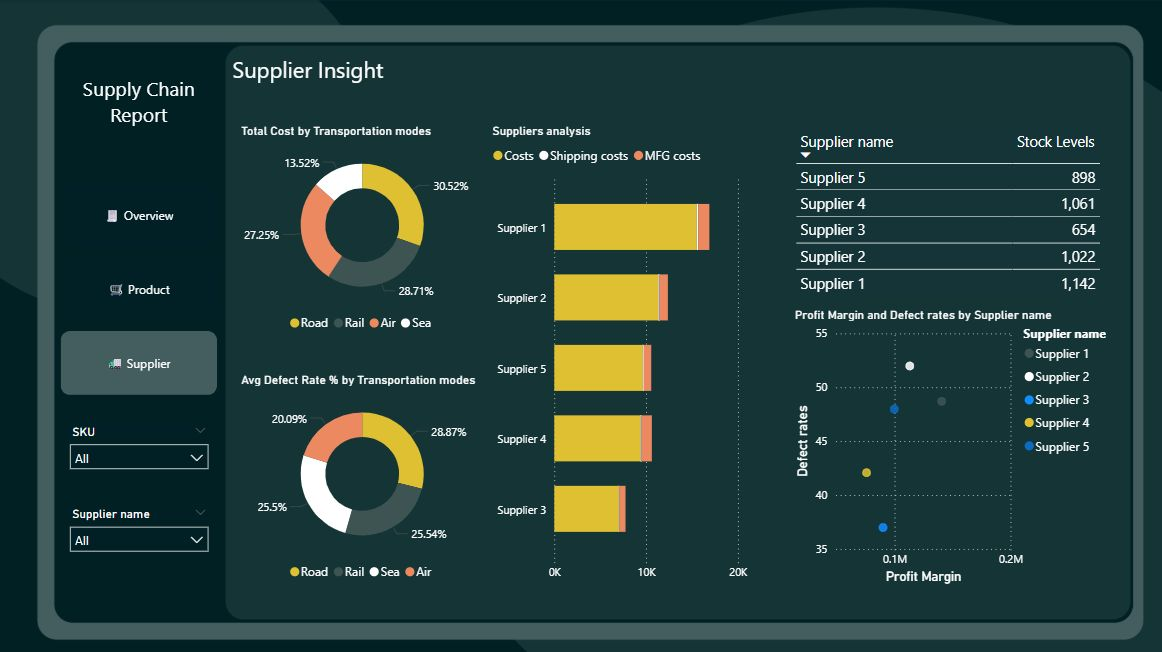

The dashboard page shown, as its layout file describes it:
{"tool":"powerbi","page":{"name":"🚛   Supplier","canvas":[1280,720],"ordinal":2},"visuals":[{"type":"donutChart","fields":{"Y":["_Measures.Total Cost"],"Category":["supply_chain_data.Transportation modes"]},"box":[262.1,137.2,275.8,237.4],"z":0},{"type":"donutChart","fields":{"Category":["supply_chain_data.Transportation modes"],"Y":["_Measures.Avg Defect Rate %"]},"box":[262.1,410.3,275.8,237.4],"z":1000},{"type":"barChart","title":"Suppliers analysis","fields":{"Category":["supply_chain_data.Supplier name"],"Y":["Sum(supply_chain_data.Costs)","Sum(supply_chain_data.Shipping costs)","Sum(supply_chain_data.MFG costs)"]},"box":[537.9,137.2,289.5,510.5],"z":2000},{"type":"tableEx","fields":{"Values":["supply_chain_data.Supplier name","_Measures.Stock Levels"]},"box":[870,137.2,367.8,201.7],"z":3000},{"type":"scatterChart","fields":{"X":["Sum(supply_chain_data.Profit Margin)"],"Y":["Sum(supply_chain_data.Defect rates)"],"Series":["supply_chain_data.Supplier name"]},"box":[870,338.9,367.8,308.7],"z":4000},{"type":"textbox","box":[252.5,56.3,204.5,61.7],"z":5000},{"type":"pageNavigator","box":[69.2,202.1,172.2,234.6],"z":6000},{"type":"slicer","fields":{"Values":["supply_chain_data.SKU"]},"box":[69.2,462.5,172.2,69.2],"z":7000},{"type":"slicer","fields":{"Values":["supply_chain_data.Supplier name"]},"box":[69.2,553.3,172.2,69.2],"z":8000},{"type":"textbox","box":[69.2,78.7,172.2,82.7],"z":9000}]}

Visuals, with their boxes in screenshot pixels (x1, y1, x2, y2), scaled from the page's 1280x720 canvas onto the 1162x652 screenshot:
donutChart - _Measures.Total Cost x supply_chain_data.Transportation modes: (x1=238, y1=124, x2=488, y2=339)
donutChart - supply_chain_data.Transportation modes x _Measures.Avg Defect Rate %: (x1=238, y1=372, x2=488, y2=587)
"Suppliers analysis" barChart: (x1=488, y1=124, x2=751, y2=587)
tableEx - supply_chain_data.Supplier name x _Measures.Stock Levels: (x1=790, y1=124, x2=1124, y2=307)
scatterChart - Sum(supply_chain_data.Profit Margin) x Sum(supply_chain_data.Defect rates): (x1=790, y1=307, x2=1124, y2=586)
textbox: (x1=229, y1=51, x2=415, y2=107)
pageNavigator: (x1=63, y1=183, x2=219, y2=395)
slicer - supply_chain_data.SKU: (x1=63, y1=419, x2=219, y2=481)
slicer - supply_chain_data.Supplier name: (x1=63, y1=501, x2=219, y2=564)
textbox: (x1=63, y1=71, x2=219, y2=146)
